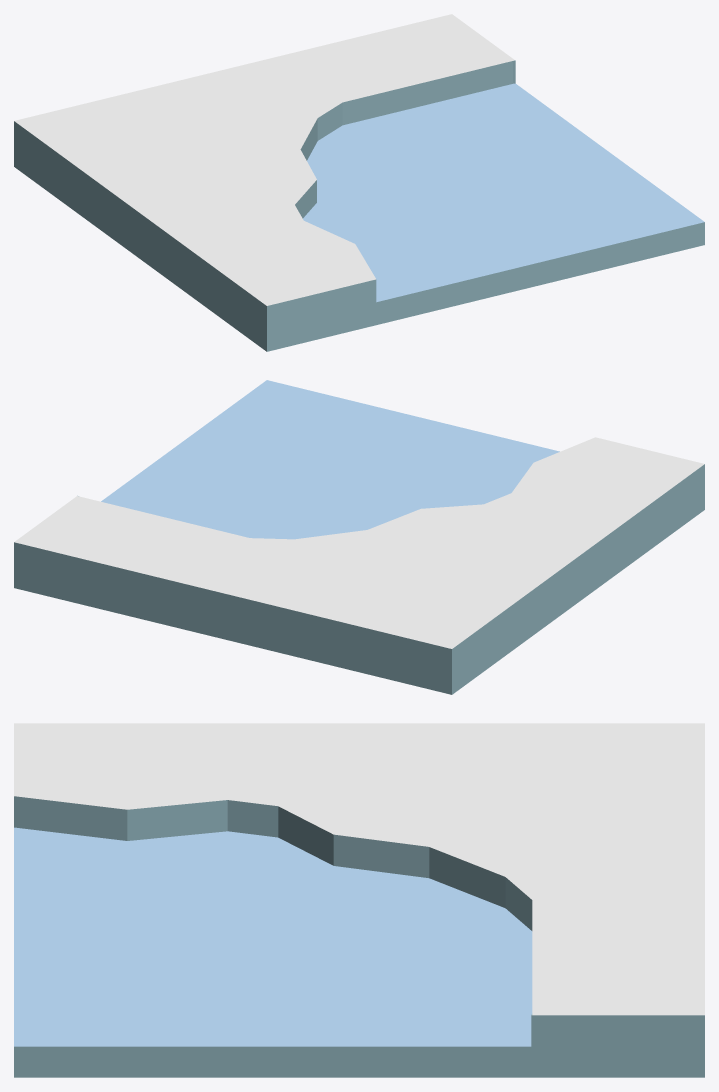
File: Terrain_Modular_Tiles_Snow_Ice_Water_Edge_Corner_Outer_02.fbx
3 renders of one model, top to bottom at view 1: azimuth 30°, elevation 25°; view 2: azimuth 150°, elevation 25°; view 3: azimuth 270°, elevation 25°, orthographic. The views are drawn at different scales.
Visible parts, largest first — view 1: Terrain_Modular_Tiles_Snow_Ice_Water_Edge_Corner_Outer_02; view 2: Terrain_Modular_Tiles_Snow_Ice_Water_Edge_Corner_Outer_02; view 3: Terrain_Modular_Tiles_Snow_Ice_Water_Edge_Corner_Outer_02.
Boxes of the visible parts, x1=… form: Terrain_Modular_Tiles_Snow_Ice_Water_Edge_Corner_Outer_02: x1=14, y1=14, x2=704, y2=351; Terrain_Modular_Tiles_Snow_Ice_Water_Edge_Corner_Outer_02: x1=14, y1=380, x2=704, y2=694; Terrain_Modular_Tiles_Snow_Ice_Water_Edge_Corner_Outer_02: x1=14, y1=723, x2=704, y2=1077.
Size of the model in its own units: 118 by 11.81 by 118.
